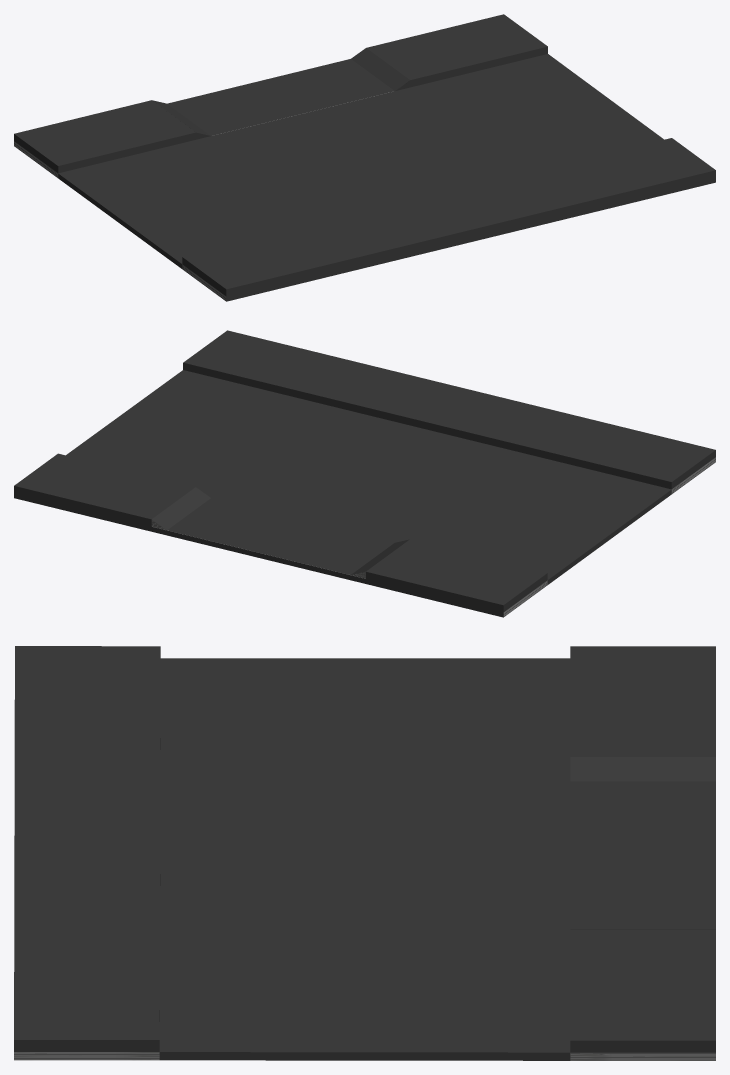
The model's file is MM1267_Pista4.FBX.
3 views of the same model, one above another, from view 1: azimuth 30°, elevation 25°; view 2: azimuth 150°, elevation 25°; view 3: azimuth 270°, elevation 25° (orthographic). The views are drawn at different scales.
Visible parts, largest first — view 1: MM1267_Pista4; view 2: MM1267_Pista4; view 3: MM1267_Pista4.
Part boxes in pixels (box(x1,y1,x2,y2)): MM1267_Pista4: box(14, 14, 715, 301); MM1267_Pista4: box(14, 330, 715, 617); MM1267_Pista4: box(14, 646, 715, 1060).
Bounding box in the file's own units: 1831 × 1377 × 44.18.
